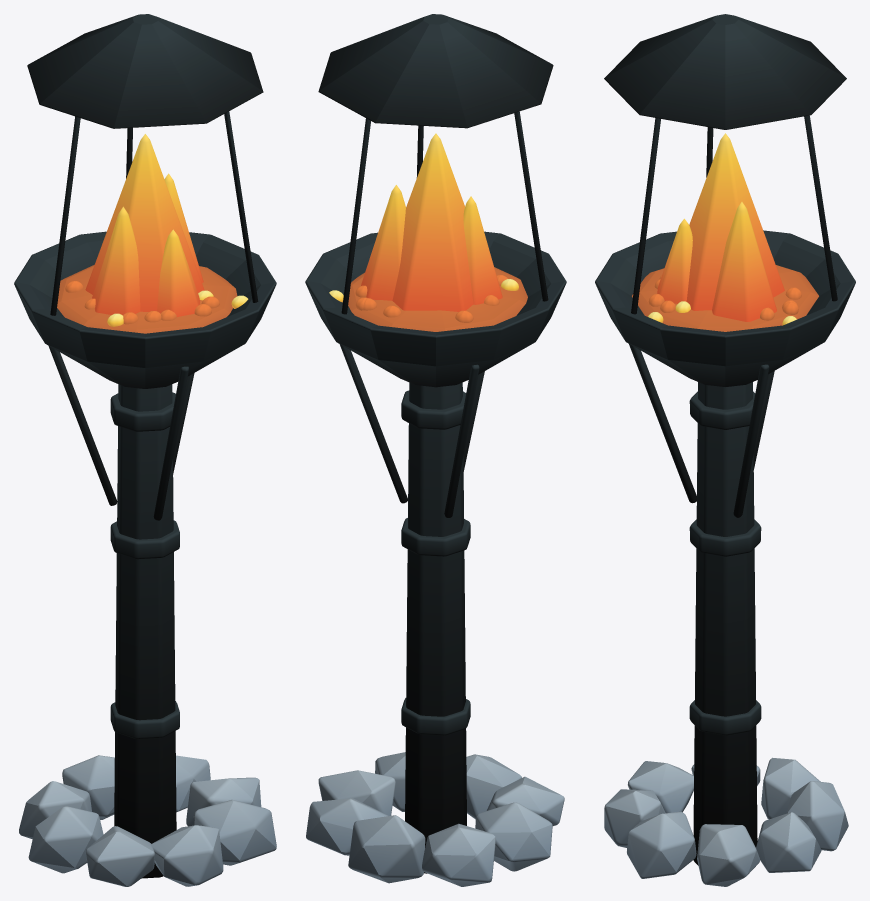
The model's file is storm_brazier.glb.
3 views of the same model, side by side, from view 1: azimuth 30°, elevation 25°; view 2: azimuth 150°, elevation 25°; view 3: azimuth 270°, elevation 25° (orthographic).
Visible parts, largest first — view 1: storm_brazier; view 2: storm_brazier; view 3: storm_brazier.
Part boxes in pixels (box(x1,y1,x2,y2)): storm_brazier: box(14, 14, 276, 886); storm_brazier: box(305, 14, 566, 886); storm_brazier: box(595, 14, 855, 886).
Size of the model in its own units: 1.61 by 5.65 by 1.59.
4 materials, 4 textured.
